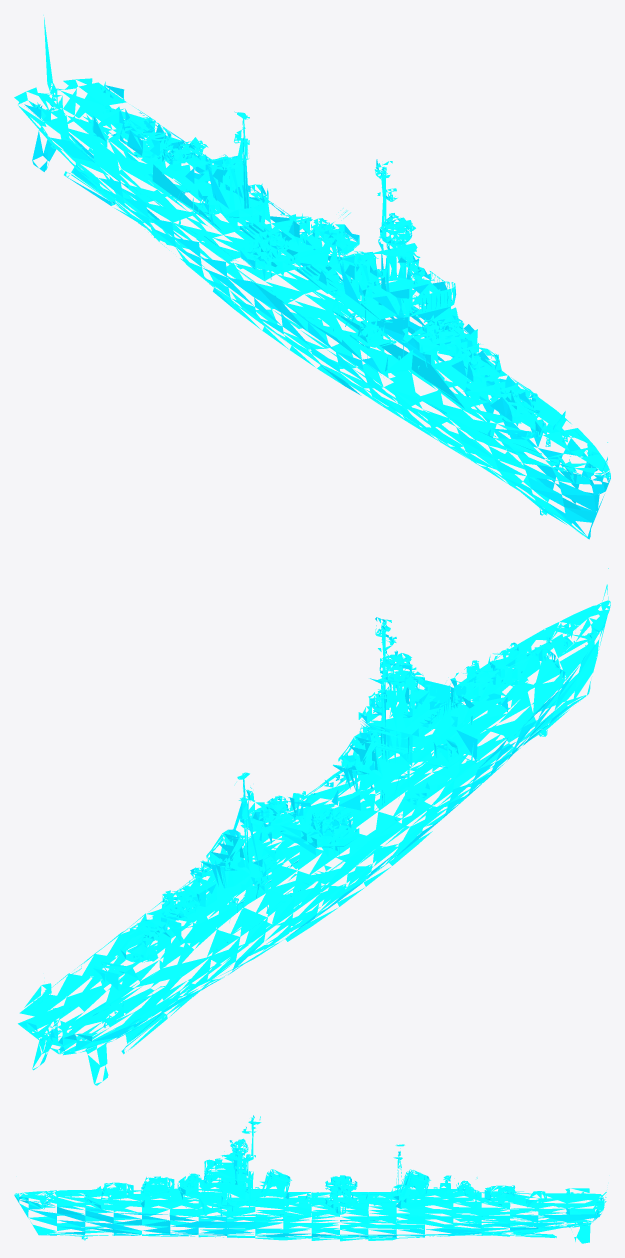
File: Grozovoy_pr_40N.glb
The picture shows the model from 3 angles, top to bottom: view 1: azimuth 30°, elevation 25°; view 2: azimuth 150°, elevation 25°; view 3: azimuth 270°, elevation 25°; orthographic projection. The views are drawn at different scales.
Size of the model in its own units: 0.9726 by 2.09 by 9.14.
